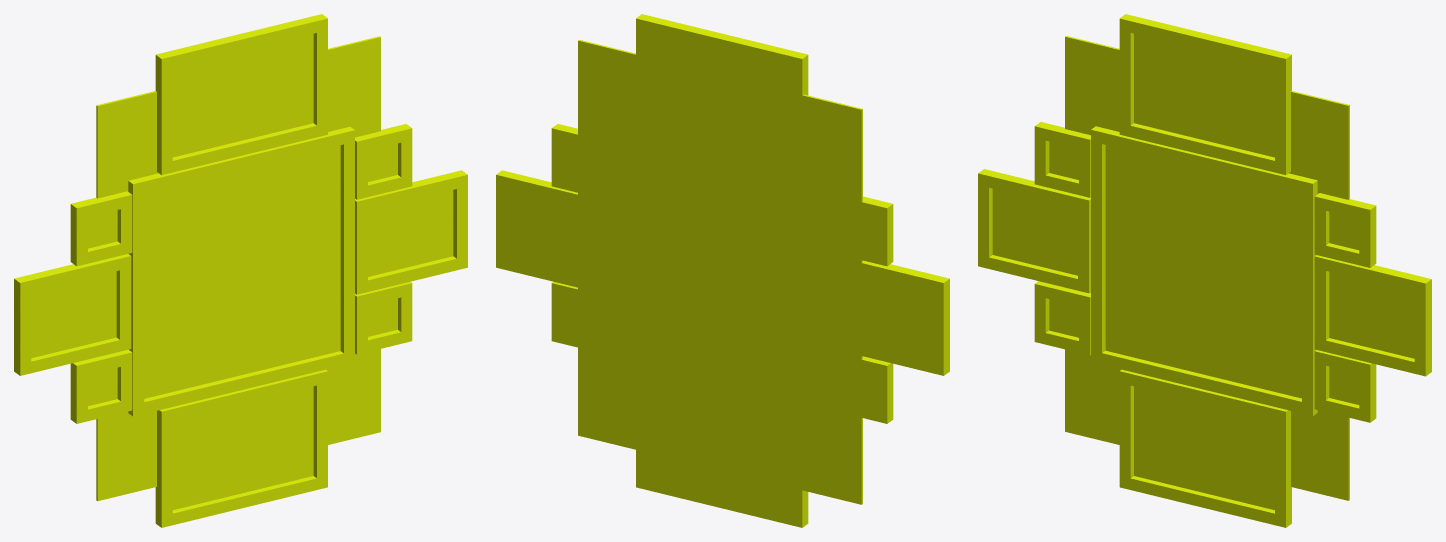
File: Group_PictureFrame_2.FBX
3 renders of one model, left to right at view 1: azimuth 30°, elevation 25°; view 2: azimuth 150°, elevation 25°; view 3: azimuth 330°, elevation 25°, orthographic.
Visible parts, largest first — view 1: pictureframe; view 2: pictureframe; view 3: pictureframe.
Boxes of the visible parts, left/top/right/bottom form: pictureframe: left=14, top=14, right=467, bottom=527; pictureframe: left=496, top=14, right=949, bottom=527; pictureframe: left=978, top=14, right=1431, bottom=527.
Bounding box in the file's own units: 1.8 × 1.8 × 0.0427.
